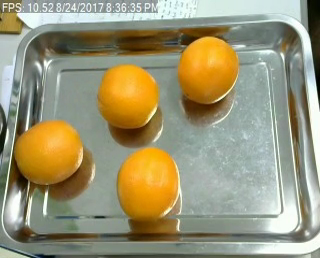Orange: (14, 119, 84, 184), (117, 148, 179, 219), (177, 37, 239, 103), (97, 65, 159, 127)
